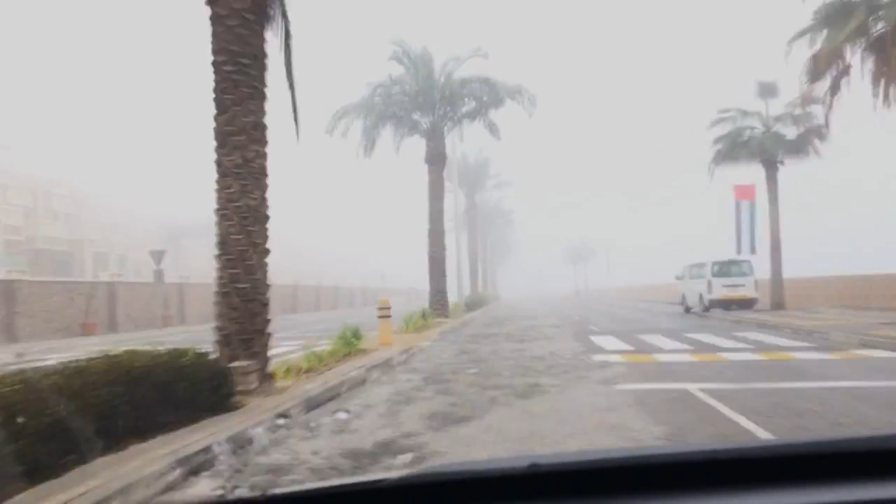bus: (671, 256, 761, 315)
